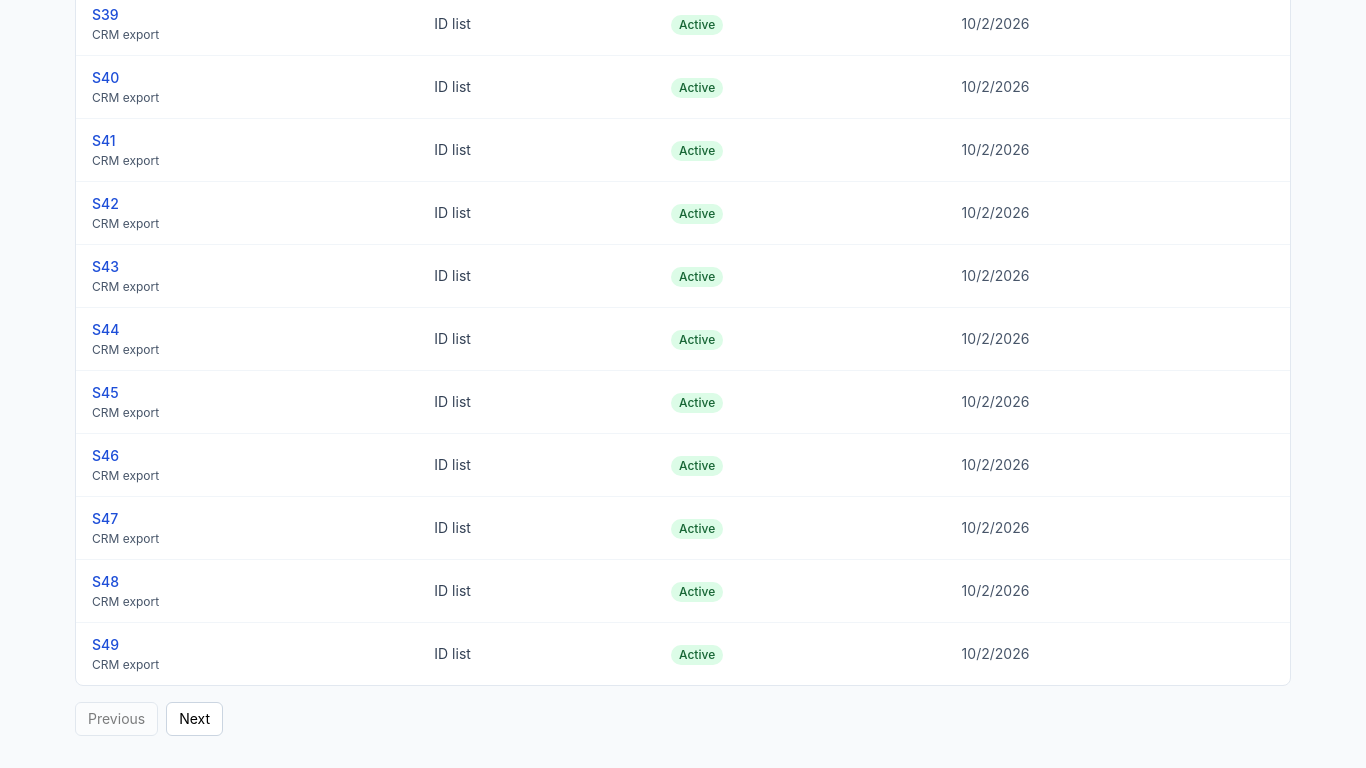
Test: SegmentsPage › pages with Next and Previous
The width and height of the screenshot is (1366, 768).
(page scrolled)
Expected: the button with test id "segments-previous" is disabled, left=75, top=702, right=158, bottom=736
Click the button with test id "segments-next".
click(195, 719)  # box left=166, top=702, right=223, bottom=736
(page scrolled)
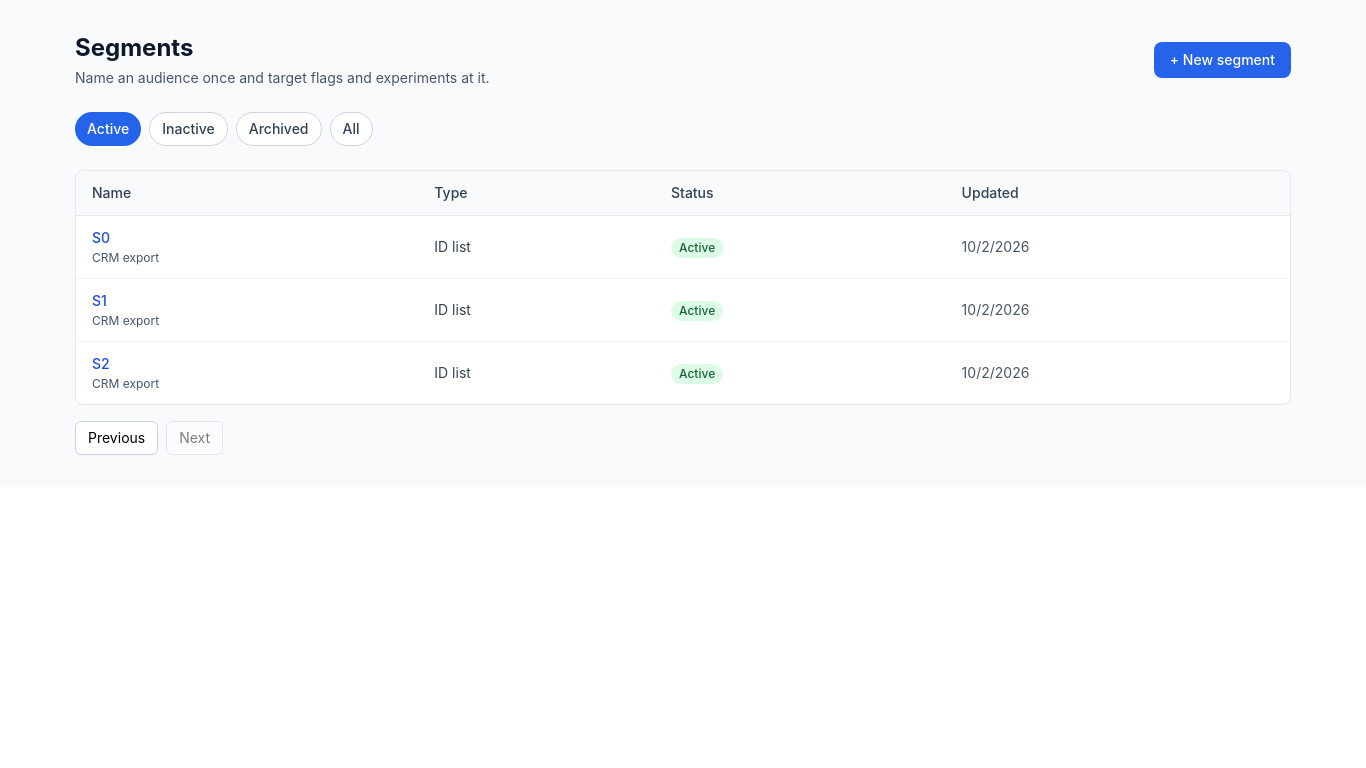
Expected: the number of rows with test id "segment-row" is 3, left=76, top=216, right=1290, bottom=278; left=76, top=278, right=1290, bottom=342; left=76, top=342, right=1290, bottom=404
Expected: the button with test id "segments-next" is disabled, left=166, top=421, right=223, bottom=455
